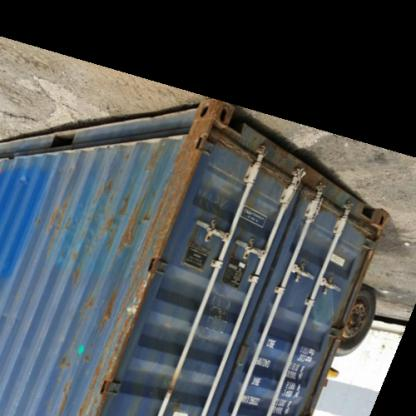Damage: (110, 188, 158, 260), (42, 198, 74, 260), (85, 286, 120, 332), (181, 226, 219, 264), (194, 188, 238, 219), (206, 298, 235, 338), (51, 380, 81, 414), (140, 144, 164, 182), (0, 314, 29, 330), (18, 168, 36, 191), (56, 356, 76, 374)
